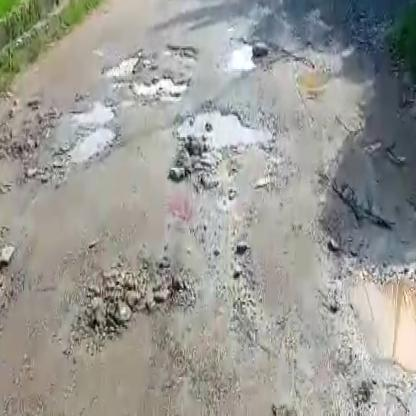pothole: (338, 260, 416, 396), (85, 252, 193, 338), (186, 104, 276, 147), (68, 128, 120, 164), (341, 43, 381, 85), (128, 75, 188, 101), (70, 98, 117, 129), (293, 60, 336, 93), (229, 41, 261, 71), (162, 40, 200, 59)
